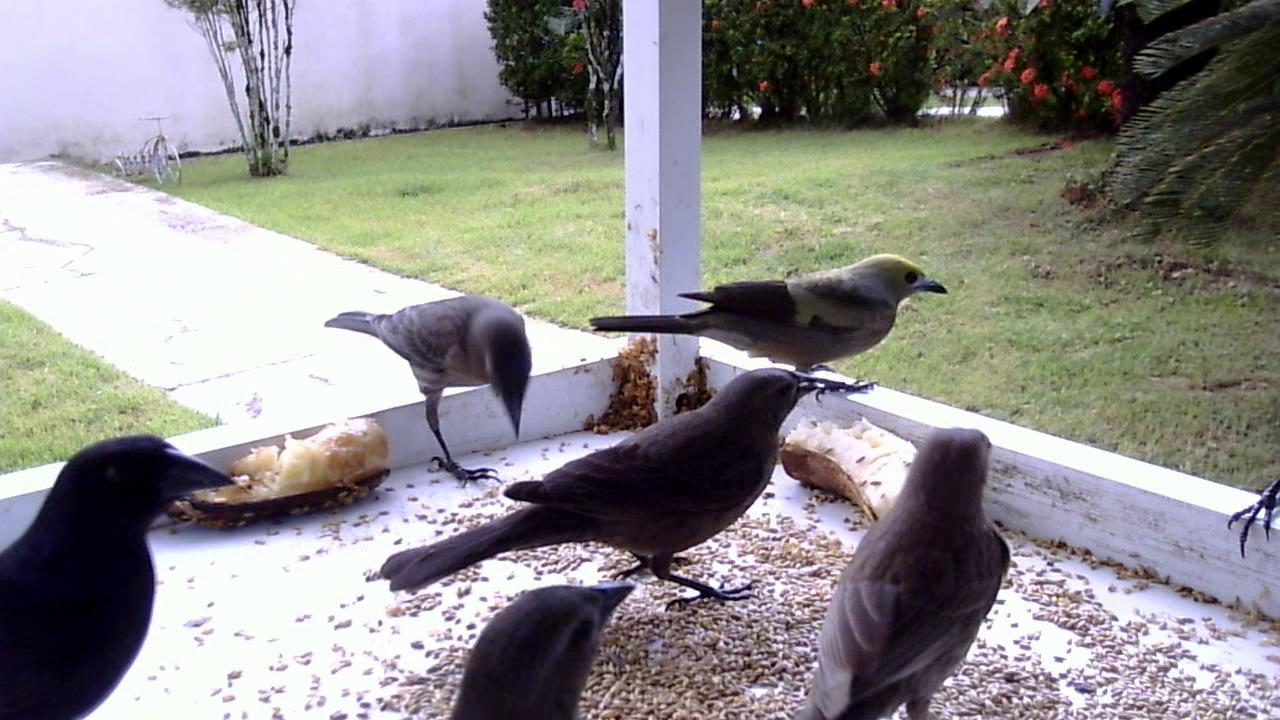chupim: (357, 341, 874, 647), (778, 401, 1019, 716), (3, 423, 245, 716), (326, 283, 539, 488), (422, 564, 654, 713)
sanhaco_do_coqueiro: (591, 252, 941, 411)
